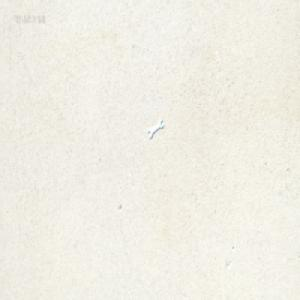Wrench: (147, 119, 164, 138)
